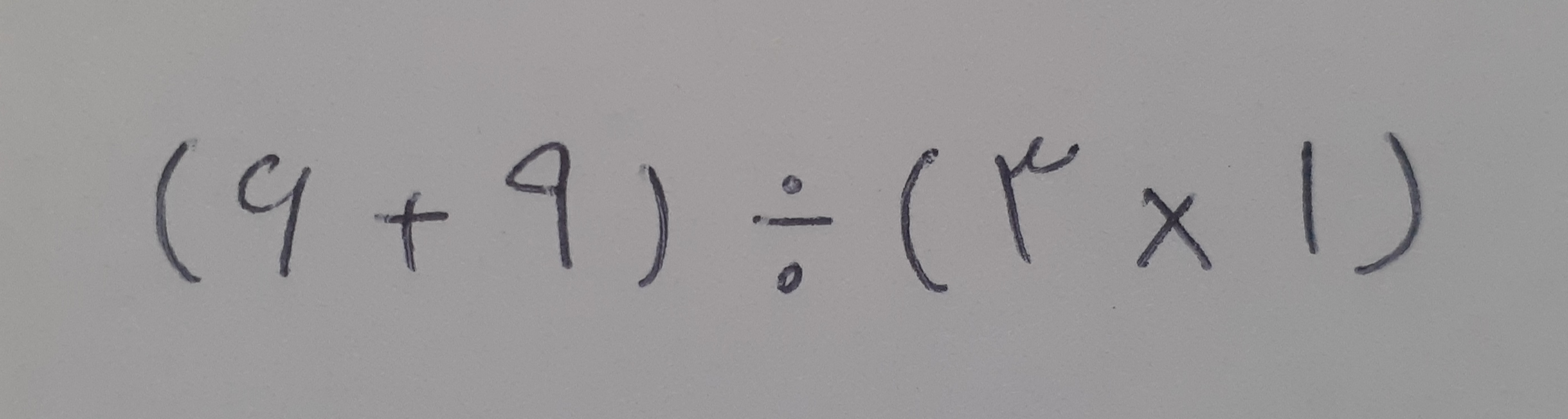character: (994, 138, 1080, 265), (1357, 131, 1423, 277), (753, 174, 833, 294), (238, 155, 312, 278), (504, 141, 574, 268), (156, 138, 202, 284), (902, 147, 948, 293), (372, 190, 449, 273), (1136, 188, 1213, 271), (637, 163, 669, 288), (1300, 140, 1320, 255)
